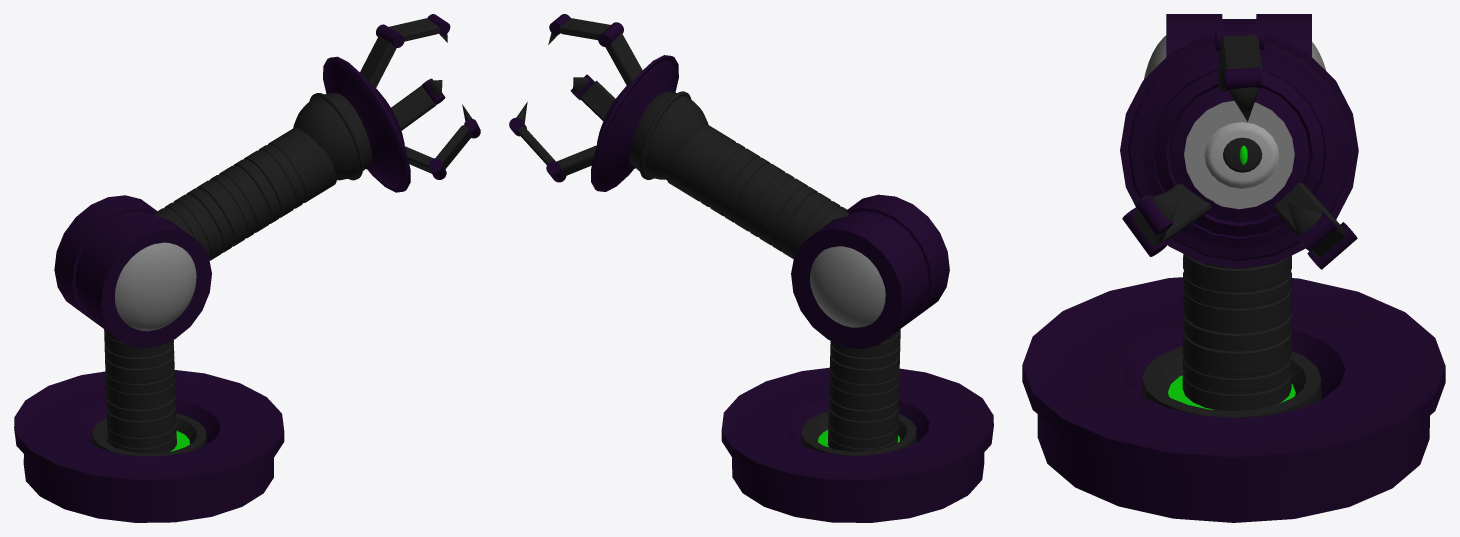
File: RoArm(DAE_FBX).dae
3 renders of one model, left to right at view 1: azimuth 30°, elevation 25°; view 2: azimuth 150°, elevation 25°; view 3: azimuth 270°, elevation 25°, orthographic. The views are drawn at different scales.
Parts seen in each view (by area): view 1: Hole_Base, pCylinder8, pCylinder20, pCylinder21, Hand_Palm, pSphere1, Hole_Entrance, pCube7, Finger_01_Base1, pCube7_ncl1_1, pCube7_ncl1_2; view 2: Hole_Base, pCylinder8, pCylinder20, pCylinder21, Hand_Palm, pSphere1, Hole_Entrance, Finger_01_Base1, pCube7_ncl1_2, pCube7_ncl1_1, Finger_01_Base2; view 3: Hole_Base, Hand_Palm, pCylinder21, Hole_Entrance, pCylinder8, Eye_white, pCube7_ncl1_1, Finger_01_Base4, Finger_01_Base2, Eye_white1, pCylinder17, pCylinder17_ncl1_1 (+8 smaller).
Part boxes in pixels (box(x1,y1,x2,y2)): Hole_Base: box(14, 370, 284, 522); pCylinder8: box(54, 195, 211, 348); pCylinder20: box(154, 128, 336, 260); pCylinder21: box(104, 329, 176, 453); Hand_Palm: box(323, 56, 410, 192); pSphere1: box(293, 93, 371, 180); Hole_Entrance: box(92, 413, 206, 456); pCube7: box(391, 85, 436, 130); Finger_01_Base1: box(360, 36, 396, 88); pCube7_ncl1_1: box(389, 18, 440, 41); pCube7_ncl1_2: box(435, 125, 471, 168); Hole_Base: box(721, 367, 993, 522); pCylinder8: box(791, 194, 949, 348); pCylinder20: box(666, 125, 849, 258); pCylinder21: box(827, 329, 900, 451); Hand_Palm: box(591, 55, 678, 191); pSphere1: box(629, 91, 708, 179); Hole_Entrance: box(801, 411, 916, 455); Finger_01_Base1: box(605, 33, 642, 86); pCube7_ncl1_2: box(579, 80, 615, 120); pCube7_ncl1_1: box(559, 18, 610, 40); Finger_01_Base2: box(556, 145, 596, 176); Hole_Base: box(1022, 277, 1445, 522); Hand_Palm: box(1120, 36, 1358, 268); pCylinder21: box(1182, 254, 1291, 411); Hole_Entrance: box(1142, 346, 1321, 417); pCylinder8: box(1144, 14, 1325, 79); Eye_white: box(1204, 122, 1278, 188); pCube7_ncl1_1: box(1220, 35, 1262, 79); Finger_01_Base4: box(1163, 184, 1213, 241); Finger_01_Base2: box(1273, 182, 1339, 234); Eye_white1: box(1223, 137, 1262, 172); pCylinder17: box(1224, 67, 1261, 90); pCylinder17_ncl1_1: box(1135, 194, 1172, 235).
Size of what is drawn, in the model's own units: 69.29 by 58.03 by 37.38.
